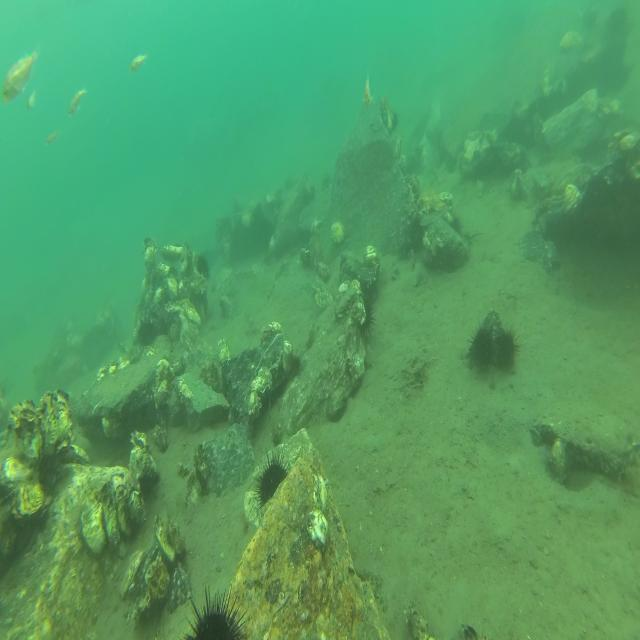echinus: (185, 584, 248, 640), (254, 450, 292, 510), (468, 321, 496, 369), (496, 326, 525, 372), (136, 466, 160, 497), (133, 319, 155, 348), (363, 293, 376, 335), (194, 253, 211, 282)
